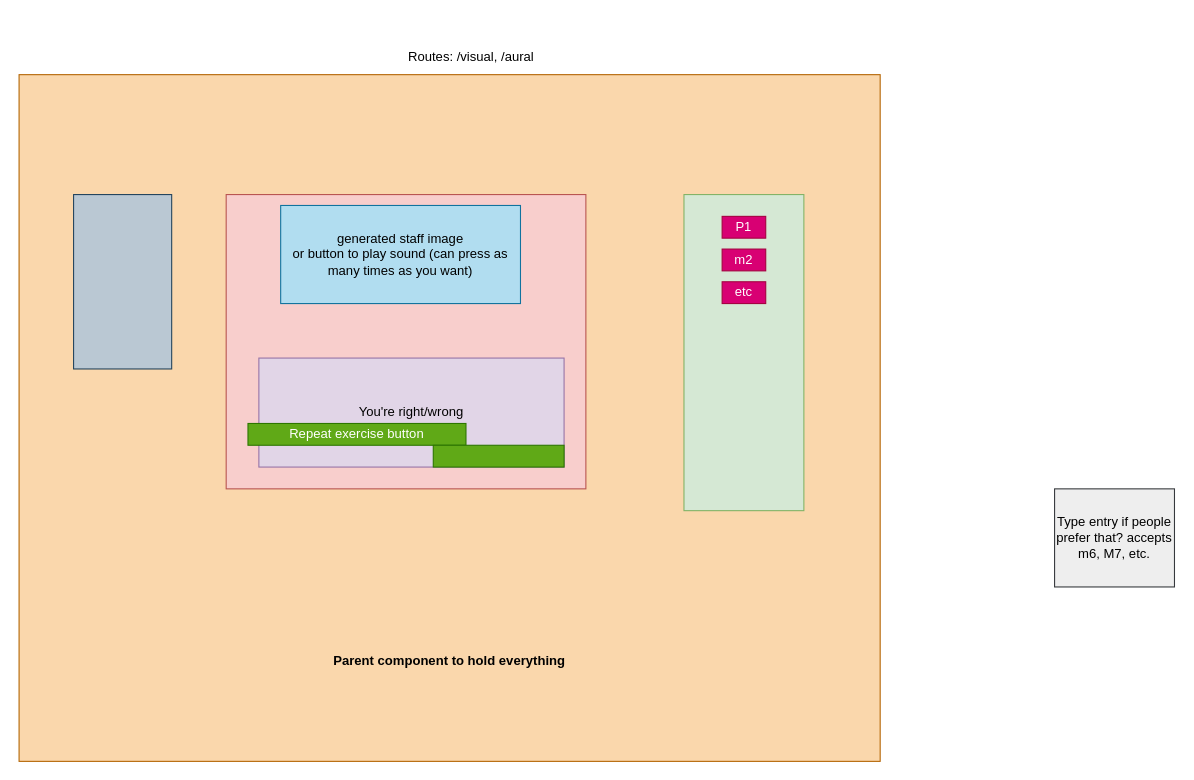
This 1194x780 diagram has some shape labels left out. The shapes that lost their labels are listed below. From the top down, each one's box as (x1, y1, x2, y2) in pixels, then its label:
(72, 193, 172, 369): Counter for right/wrong, current exercise state only, no db
(225, 193, 586, 489): Frame component
(683, 193, 804, 511): Buttons with all the interval options
(432, 444, 564, 467): New exercise button
